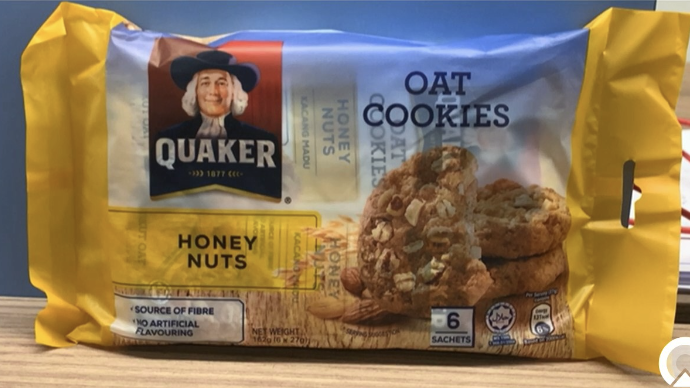cookies_150g: (125, 60, 567, 349)
